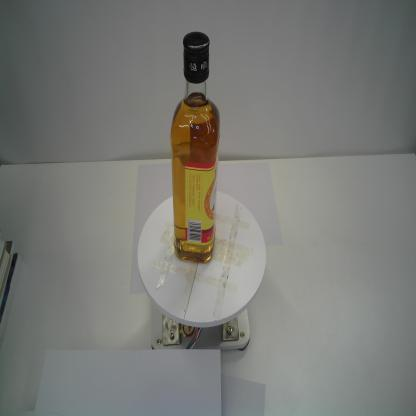Seasoner: (169, 30, 221, 264)
